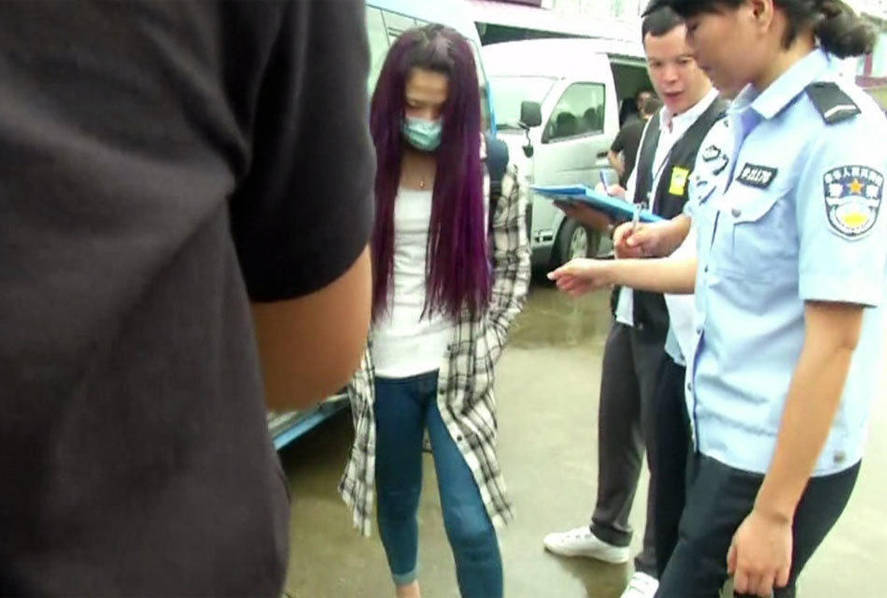face: (685, 2, 752, 86), (647, 38, 700, 107)
face_mask: (402, 64, 458, 154)
